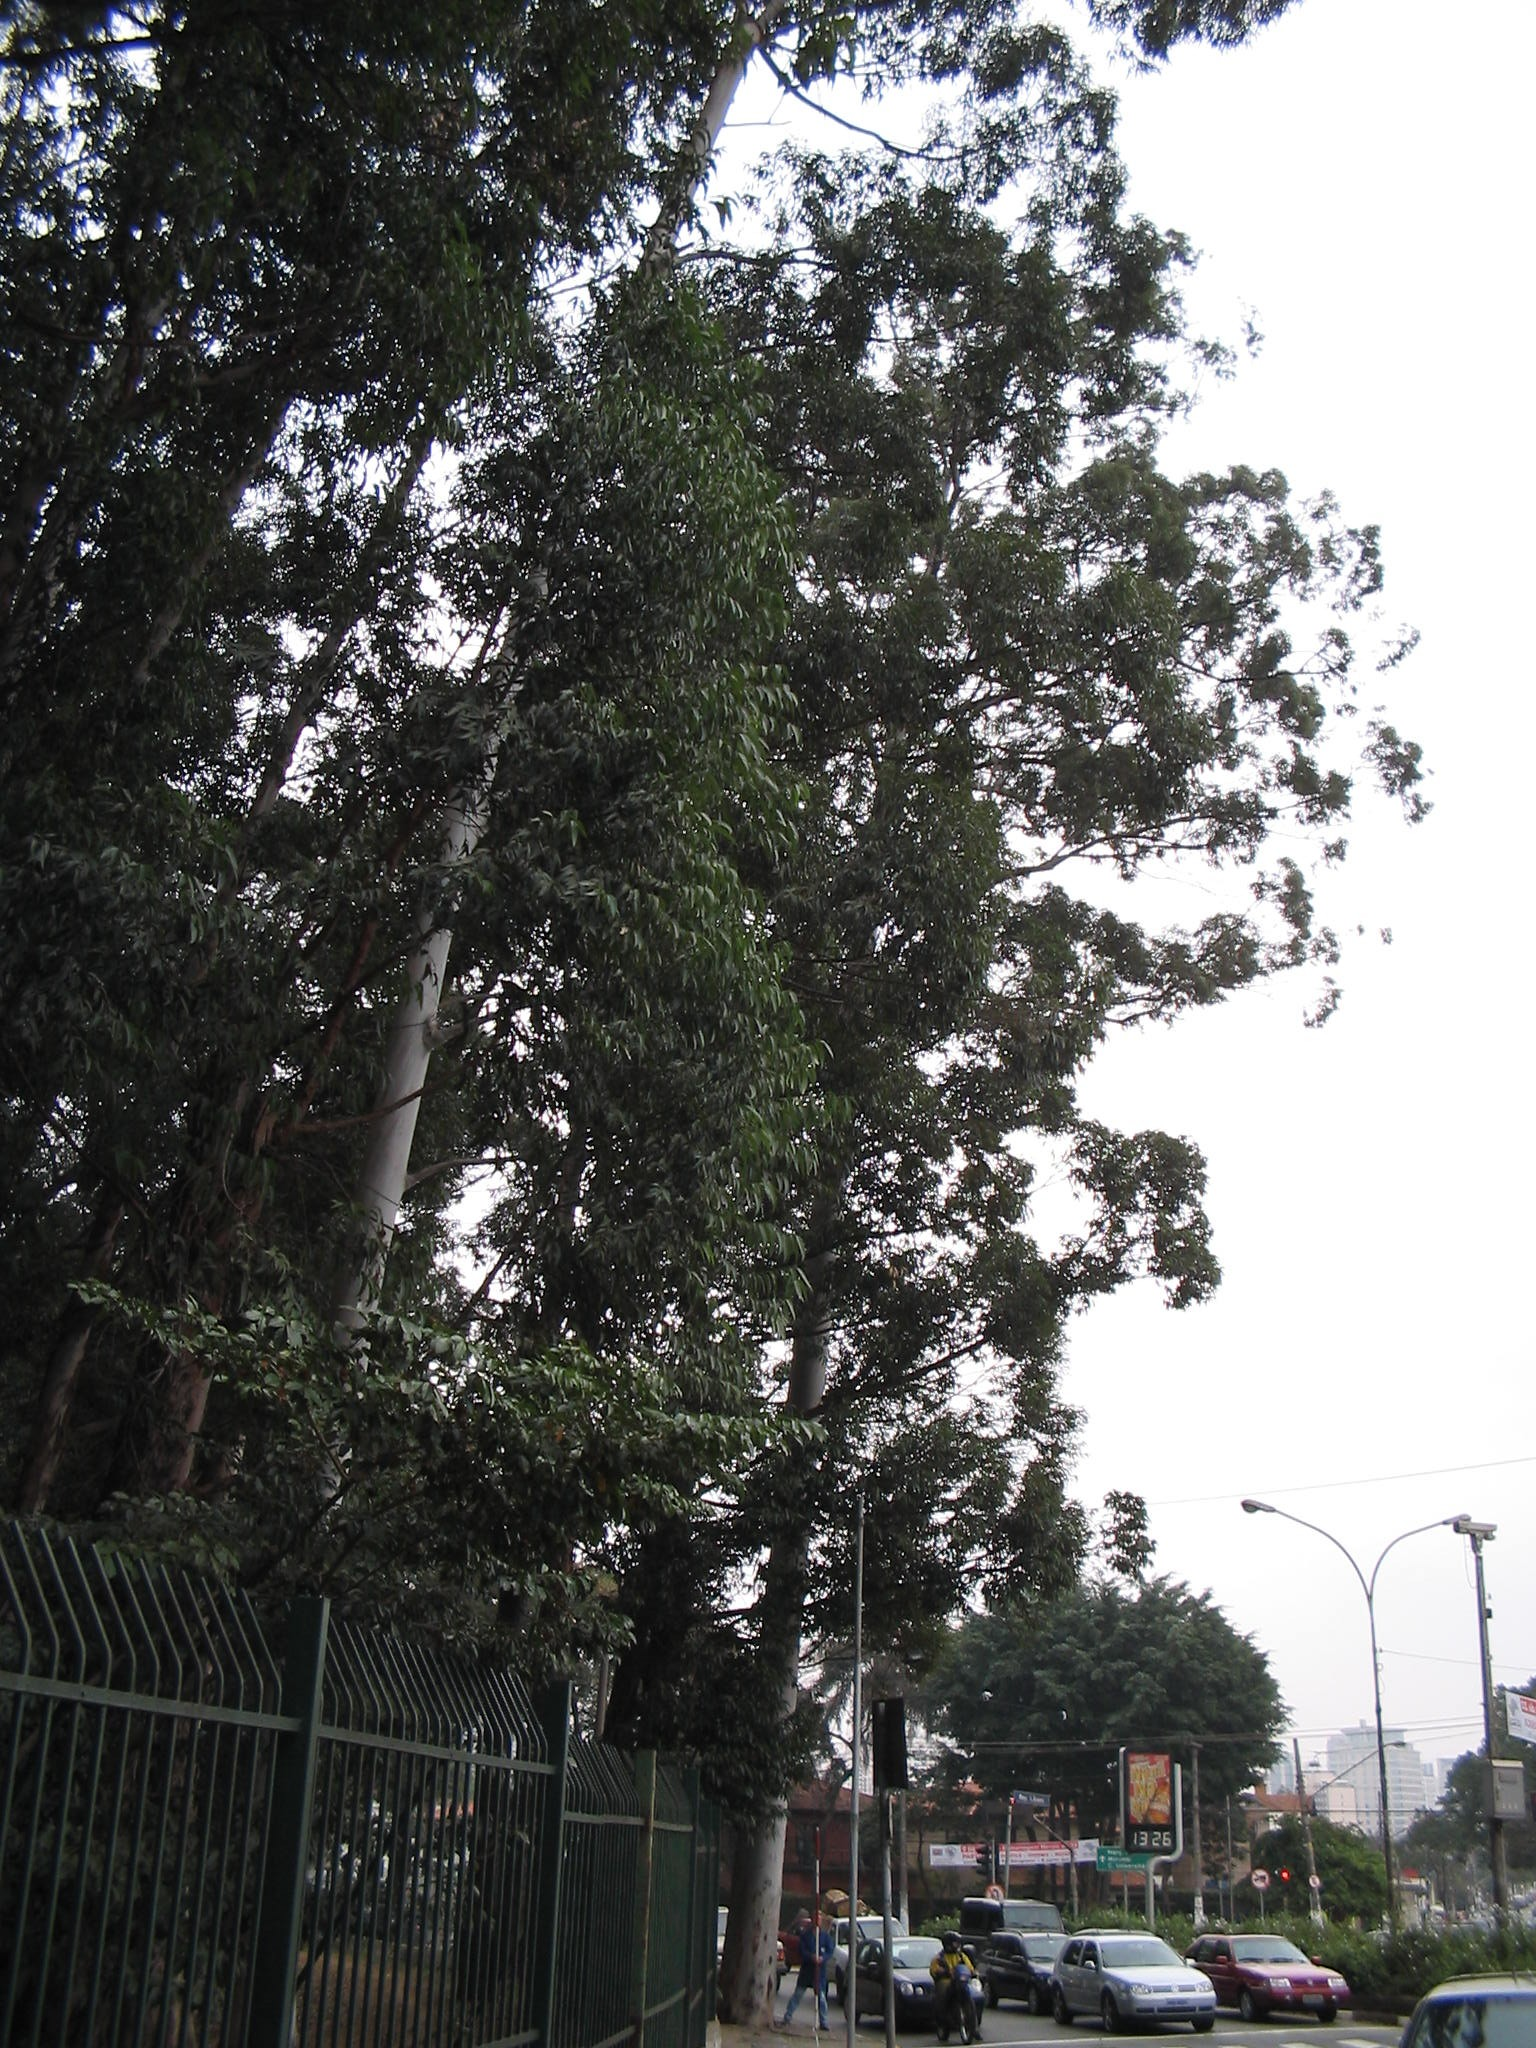crown: (594, 34, 1420, 1645)
stem: (699, 1832, 799, 2021)
stick: (799, 1825, 839, 2025)
tree: (582, 29, 1439, 2024)
